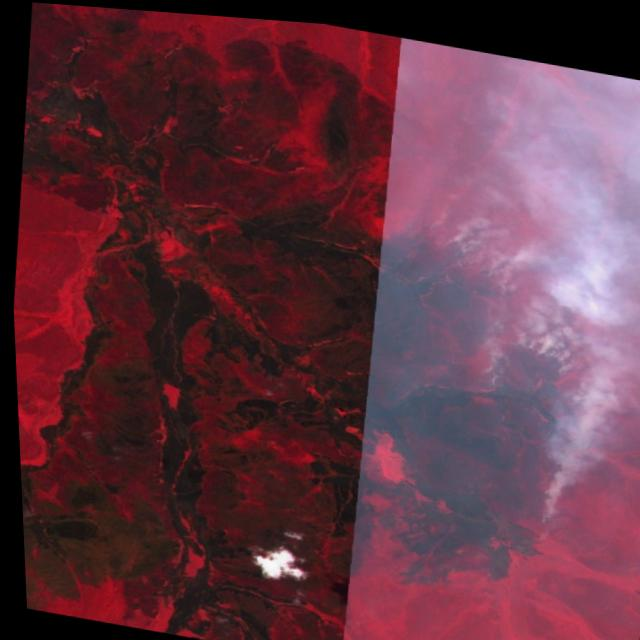fire: (366, 212, 625, 596)
